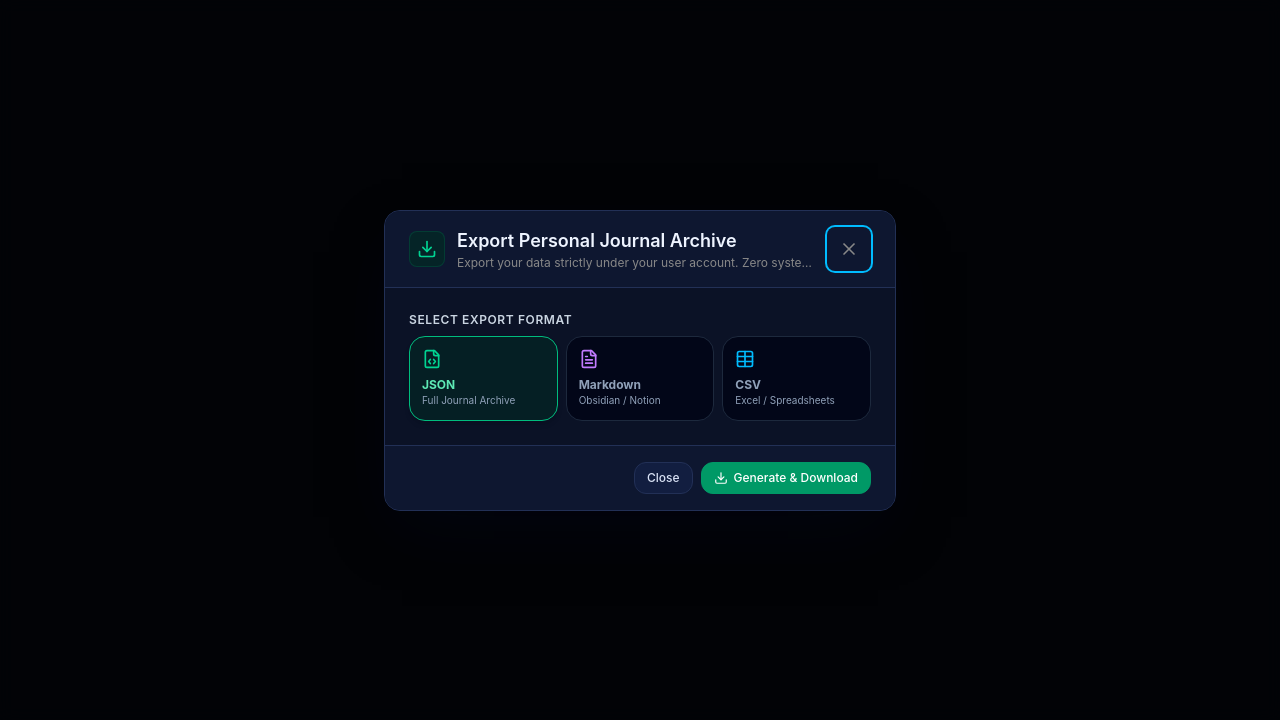
Test: DataExportModal component › surfaces failures with an inline alert instead of a silent download
Click the button "Generate & Download": (786, 478) [700,462,871,494]
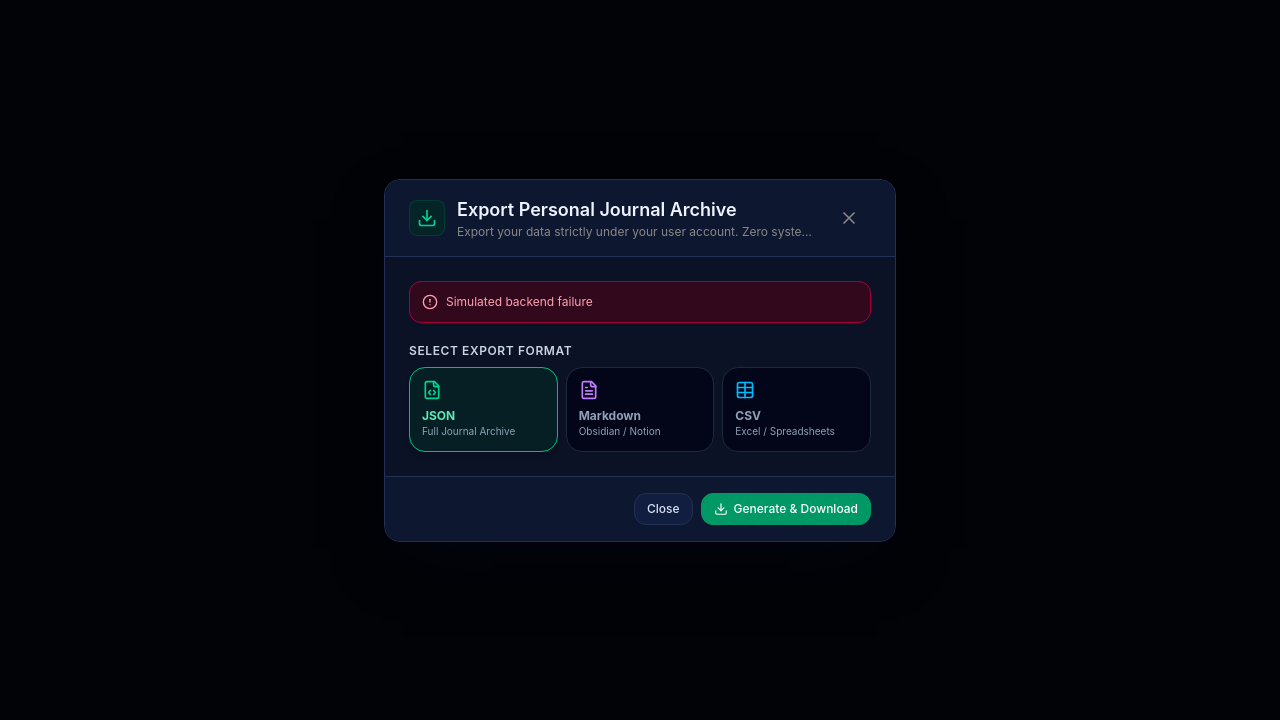
Result: the message reads "Simulated backend failure" at [446,294,593,308]
